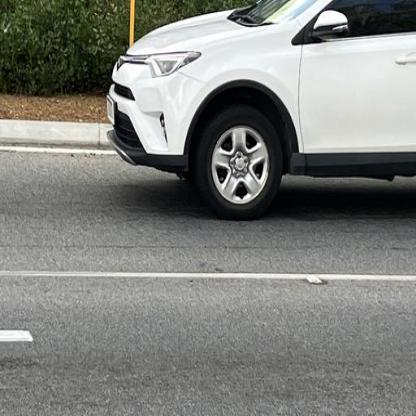Tire: (195, 104, 284, 222)
